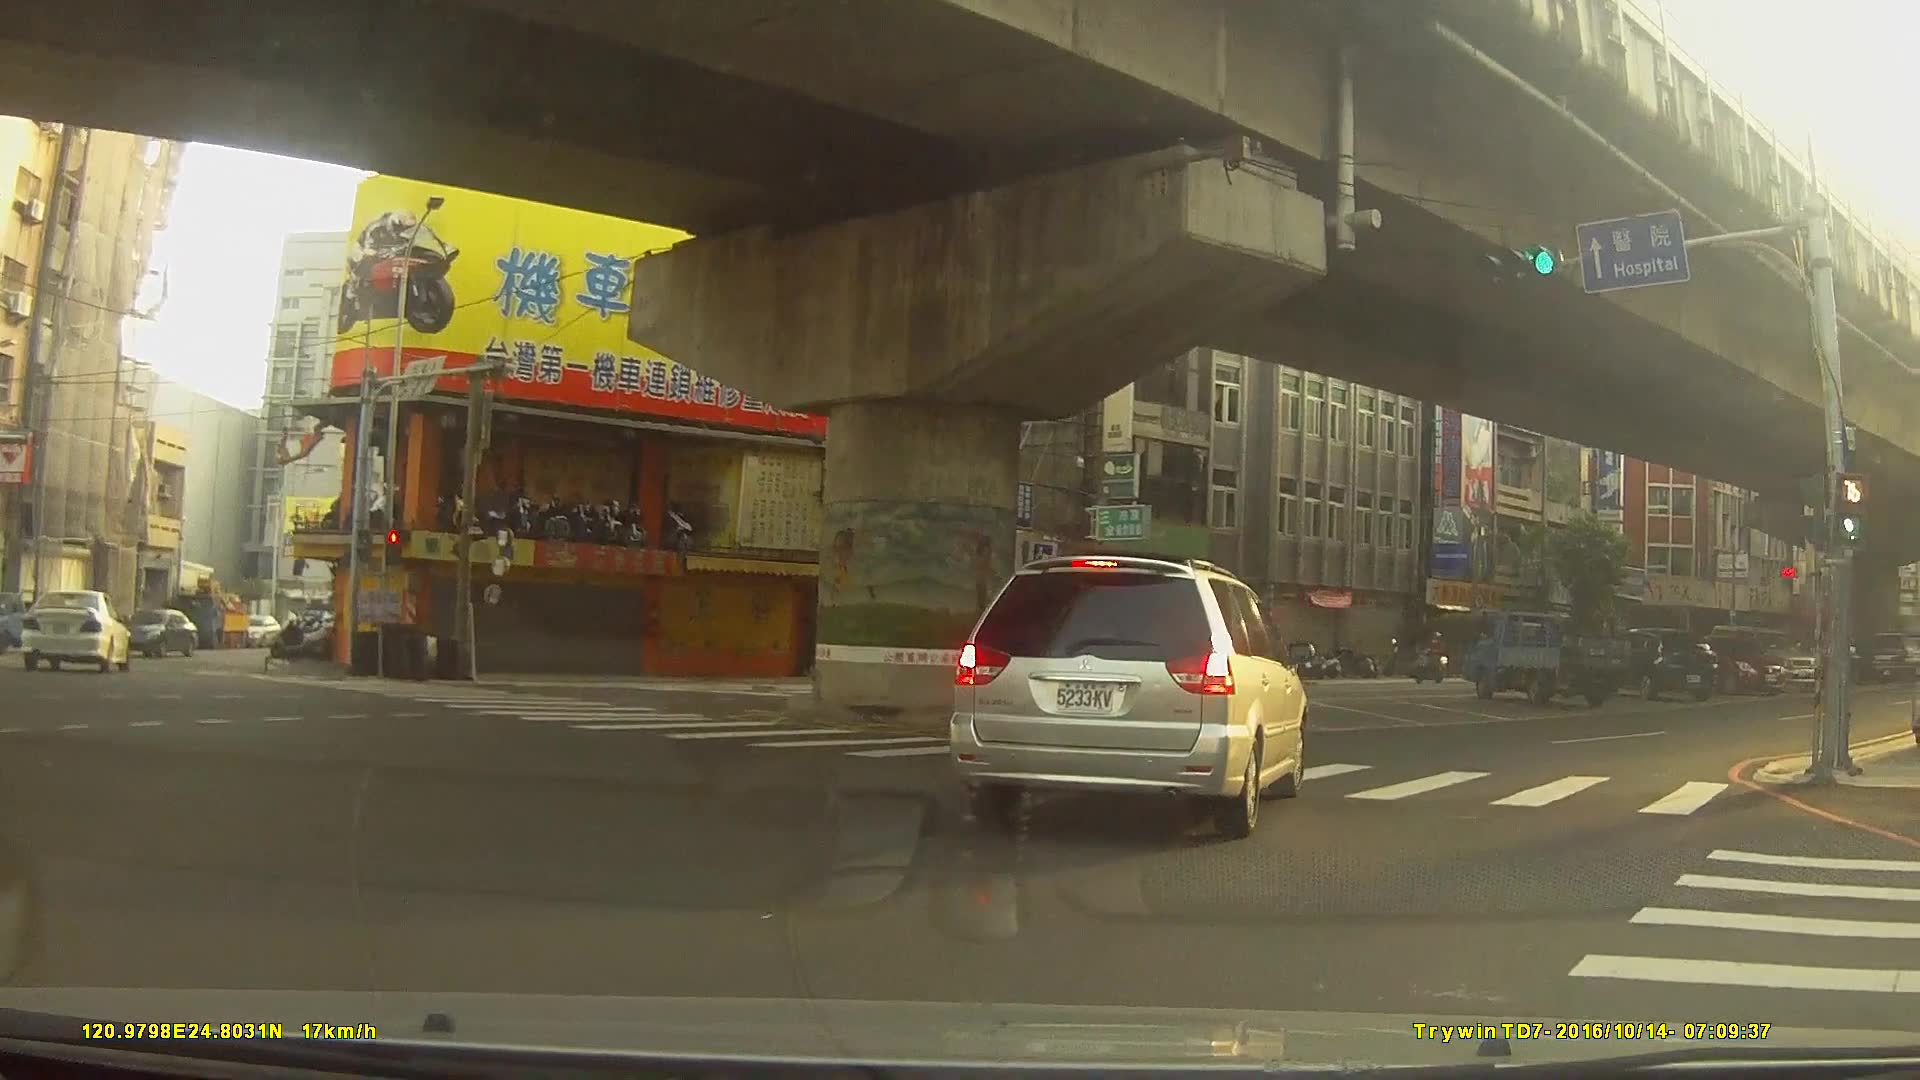rider: (806, 599, 889, 701), (1417, 633, 1452, 684)
vehicle: (945, 555, 1306, 839), (1459, 610, 1628, 708), (20, 587, 132, 674), (1587, 624, 1716, 699), (1681, 632, 1786, 695), (122, 606, 196, 656), (237, 614, 280, 645)
